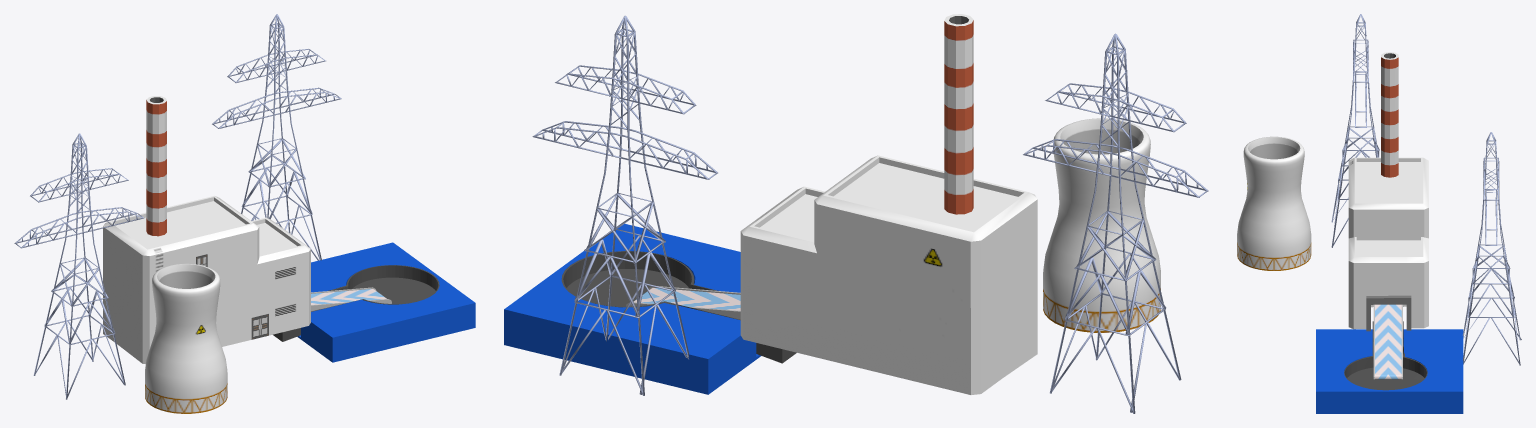
File: Station_final2.fbx
3 views of the same model, side by side, from view 1: azimuth 30°, elevation 25°; view 2: azimuth 150°, elevation 25°; view 3: azimuth 270°, elevation 25° (orthographic). The views are drawn at different scales.
Parts seen in each view (by area): view 1: Cube.038_Cube.103, Cube, Cube.038_Cube.001, power-tower.002, power-tower.001, Cube.038_Cube.002, Cube.001, Cylinder; view 2: Cube.038_Cube.103, Cube, Cube.038_Cube.001, power-tower.002, power-tower.001, Cube.038_Cube.002, Cube.001, Cylinder; view 3: Cube.038_Cube.103, Cube, Cube.038_Cube.001, power-tower.001, Cylinder, Cube.038_Cube.002, power-tower.002, Cube.001.
Part boxes in pixels (<box>): Cube.038_Cube.103: <box>103,195,310,363</box>; Cube: <box>297,242,475,362</box>; Cube.038_Cube.001: <box>145,263,227,413</box>; power-tower.002: <box>14,133,144,399</box>; power-tower.001: <box>212,14,341,260</box>; Cube.038_Cube.002: <box>146,96,166,236</box>; Cube.001: <box>273,265,439,341</box>; Cylinder: <box>311,287,391,311</box>; Cube.038_Cube.103: <box>740,155,1037,394</box>; Cube: <box>504,224,760,394</box>; Cube.038_Cube.001: <box>1043,118,1160,332</box>; power-tower.002: <box>1023,33,1208,413</box>; power-tower.001: <box>532,15,717,395</box>; Cube.038_Cube.002: <box>944,14,973,214</box>; Cube.001: <box>561,251,796,363</box>; Cylinder: <box>626,286,740,319</box>; Cube.038_Cube.103: <box>1348,157,1428,331</box>; Cube: <box>1316,329,1463,413</box>; Cube.038_Cube.001: <box>1237,136,1311,270</box>; power-tower.001: <box>1462,132,1521,365</box>; Cylinder: <box>1373,304,1402,379</box>; Cube.038_Cube.002: <box>1381,52,1398,177</box>; power-tower.002: <box>1331,14,1379,247</box>; Cube.001: <box>1344,321,1427,390</box>.
Size of the model in its own units: 2443 by 1436 by 1557.
